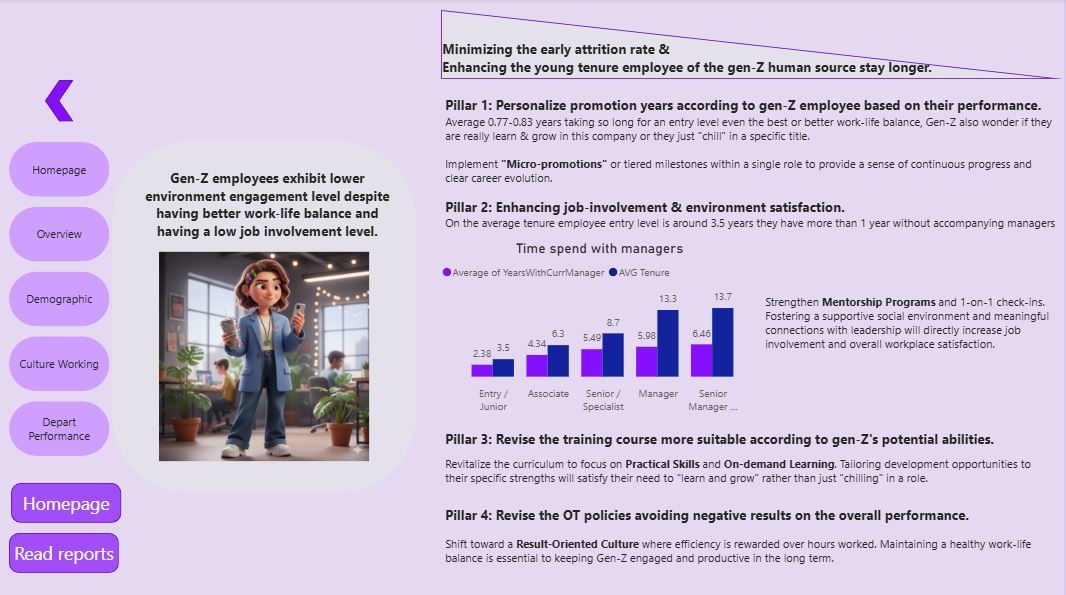

This screenshot's page, from the dashboard's own definition file:
{"tool":"powerbi","page":{"name":"Drill down Analysis","canvas":[1280,720],"ordinal":12},"visuals":[{"type":"image","box":[623.7,55.4,437.1,239.6],"z":0},{"type":"textbox","box":[153.7,9.2,906.6,36.8],"z":1000},{"type":"image","box":[994.5,55.4,276.9,239.6],"z":2000},{"type":"textbox","box":[153.7,35.5,676.6,39.4],"z":3000},{"type":"image","box":[487.2,279.4,407.4,247.7],"z":4000},{"type":"image","box":[160.1,225.1,96.3,85.5],"z":5000,"group":"g1"},{"type":"image","box":[894.6,260.1,377.1,267],"z":5000},{"type":"textbox","box":[181.8,192.6,53,37.3],"z":6000,"group":"g1"},{"type":"image","box":[623.7,484,370.8,215.5],"z":6000},{"type":"textbox","box":[261.1,257.6,371.8,36.8],"z":7000,"group":"g1"},{"type":"textbox","box":[154.1,484,469.6,136.1],"z":7000},{"type":"textbox","box":[1006.6,552.6,273.3,106],"z":8000},{"type":"group","id":"g1","title":"Group 1","box":[160.1,192.6,777.8,137.3],"z":9000},{"type":"pageNavigator","box":[10.8,89.1,121.6,327.5],"z":10000},{"type":"textbox","box":[261.1,290.5,676.6,39.4],"z":11000,"group":"g1"},{"type":"group","id":"g2","title":"Group 2","box":[0,647.8,132.4,51.8],"z":11000},{"type":"shape","box":[4.8,585.2,133.6,48.2],"z":12000},{"type":"shape","box":[97.5,647.8,34.9,51.8],"z":12000,"group":"g2"},{"type":"shape","box":[4.8,503.3,133.6,73.4],"z":13000},{"type":"shape","box":[0,647.8,34.9,50.6],"z":13000,"group":"g2"}]}

Visuals, with their boxes in screenshot pixels (x1, y1, x2, y2), scaled from the page's 1280x720 canvas onto the 1066x595 screenshot:
image: <box>519,46,883,244</box>
textbox: <box>128,8,883,38</box>
image: <box>828,46,1059,244</box>
textbox: <box>128,29,691,62</box>
image: <box>406,231,745,436</box>
image: <box>133,186,214,257</box>
image: <box>745,215,1059,436</box>
textbox: <box>151,159,196,190</box>
image: <box>519,400,828,578</box>
textbox: <box>217,213,527,243</box>
textbox: <box>128,400,519,512</box>
textbox: <box>838,457,1065,544</box>
"Group 1" group: <box>133,159,781,273</box>
pageNavigator: <box>9,74,110,344</box>
textbox: <box>217,240,781,273</box>
"Group 2" group: <box>0,535,110,578</box>
shape: <box>4,484,115,523</box>
shape: <box>81,535,110,578</box>
shape: <box>4,416,115,477</box>
shape: <box>0,535,29,577</box>
